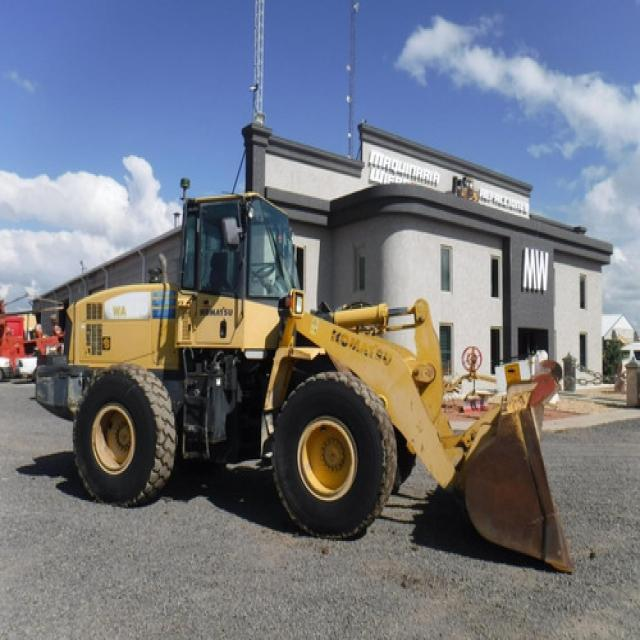buldozerpayloadergrader: (34, 185, 579, 579)
